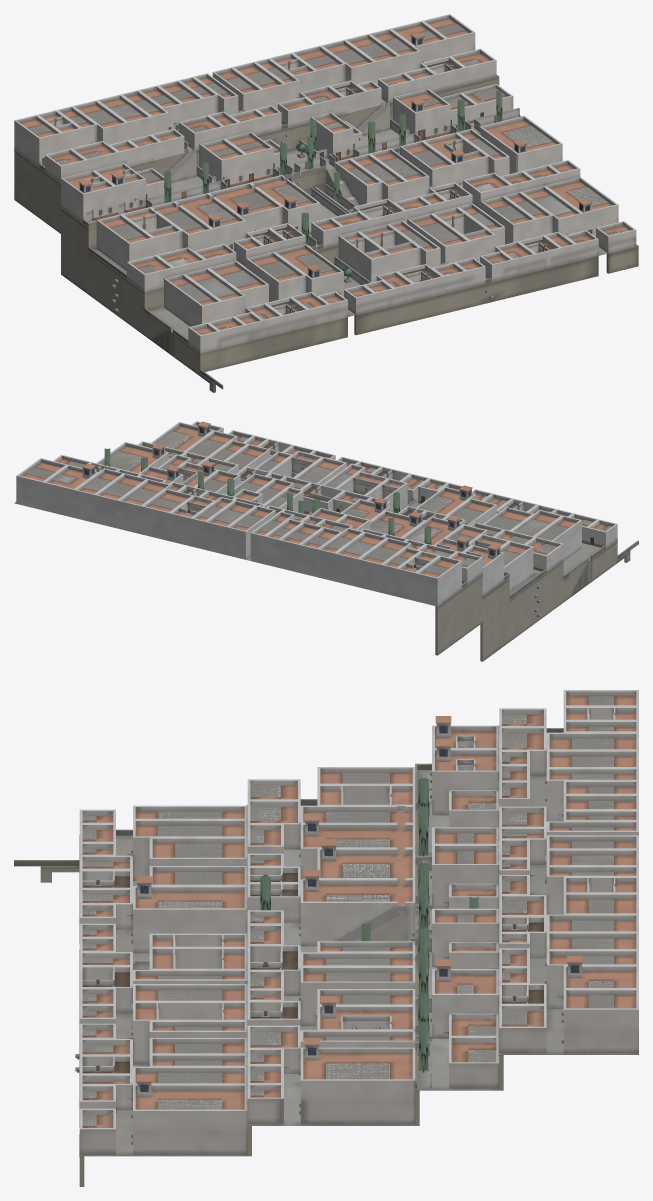
Rendered from judiaria_hi.glb.
3 renders of one model, top to bottom at view 1: azimuth 30°, elevation 25°; view 2: azimuth 150°, elevation 25°; view 3: azimuth 270°, elevation 25°, orthographic. The views are drawn at different scales.
Parts seen in each view (by area): view 1: judiaria_retaining_11, judiaria_retaining_10, judiaria_6_n_174, judiaria_west_12, judiaria_west_14, judiaria_7_n_191, judiaria_7_n_199, judiaria_6_n_162, judiaria_5_n_128, judiaria_5_n_142, judiaria_6_n_166, judiaria_6_n_165 (+103 smaller); view 2: judiaria_west_14, judiaria_west_12, judiaria_west_13, judiaria_8_n_202, judiaria_8_n_220, judiaria_8_n_216, judiaria_8_n_221, judiaria_8_n_217, judiaria_8_n_205, judiaria_8_n_206, judiaria_8_n_218, judiaria_8_n_212 (+50 smaller); view 3: judiaria_6_n_174, judiaria_5_n_142, judiaria_5_n_132, judiaria_6_n_167, judiaria_8_n_221, judiaria_7_n_199, judiaria_6_n_165, judiaria_7_n_192, judiaria_6_n_170, judiaria_6_n_166, judiaria_7_n_195, judiaria_5_n_137 (+86 smaller).
Part boxes in pixels (bbox=[...]): judiaria_retaining_11: bbox=[354, 256, 598, 335]; judiaria_retaining_10: bbox=[200, 317, 347, 371]; judiaria_6_n_174: bbox=[479, 116, 562, 173]; judiaria_west_12: bbox=[88, 251, 147, 335]; judiaria_west_14: bbox=[14, 149, 60, 233]; judiaria_7_n_191: bbox=[61, 170, 115, 222]; judiaria_7_n_199: bbox=[393, 88, 450, 140]; judiaria_6_n_162: bbox=[96, 214, 153, 270]; judiaria_5_n_128: bbox=[164, 274, 221, 326]; judiaria_5_n_142: bbox=[545, 177, 618, 236]; judiaria_6_n_166: bbox=[208, 183, 282, 232]; judiaria_6_n_165: bbox=[174, 193, 246, 250]; judiaria_west_14: bbox=[435, 574, 482, 655]; judiaria_west_12: bbox=[509, 560, 563, 641]; judiaria_west_13: bbox=[480, 577, 509, 661]; judiaria_8_n_202: bbox=[416, 555, 461, 606]; judiaria_8_n_220: bbox=[43, 463, 98, 517]; judiaria_8_n_216: bbox=[141, 488, 193, 541]; judiaria_8_n_221: bbox=[16, 458, 67, 510]; judiaria_8_n_217: bbox=[118, 479, 171, 534]; judiaria_8_n_205: bbox=[358, 537, 411, 592]; judiaria_8_n_206: bbox=[335, 532, 387, 586]; judiaria_8_n_218: bbox=[95, 473, 147, 528]; judiaria_8_n_212: bbox=[227, 505, 275, 559]; judiaria_6_n_174: bbox=[299, 1038, 415, 1124]; judiaria_5_n_142: bbox=[131, 1075, 247, 1154]; judiaria_5_n_132: bbox=[131, 876, 247, 953]; judiaria_6_n_167: bbox=[299, 869, 415, 946]; judiaria_8_n_221: bbox=[561, 989, 638, 1053]; judiaria_7_n_199: bbox=[430, 959, 499, 1038]; judiaria_6_n_165: bbox=[300, 814, 415, 879]; judiaria_7_n_192: bbox=[430, 739, 499, 815]; judiaria_6_n_170: bbox=[300, 966, 415, 1026]; judiaria_6_n_166: bbox=[317, 839, 415, 884]; judiaria_7_n_195: bbox=[432, 845, 499, 908]; judiaria_5_n_137: bbox=[133, 1001, 247, 1064].
Bounding box in the file's own units: 137 × 39.8 × 112.
